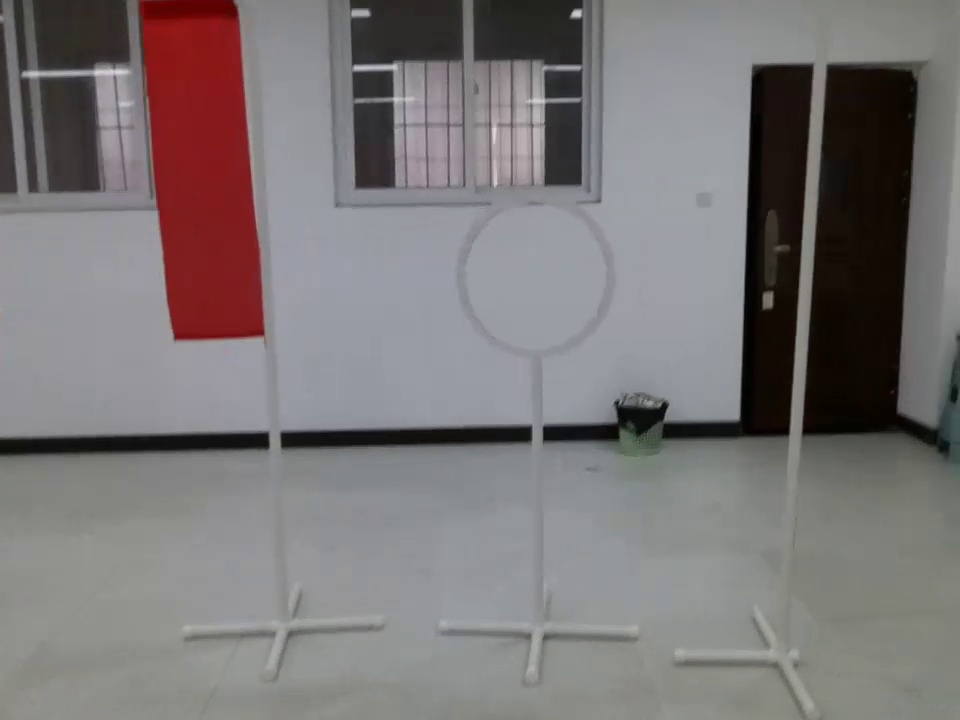gan: (772, 28, 829, 637)
qi: (138, 1, 275, 349)
quan: (446, 187, 615, 367)
